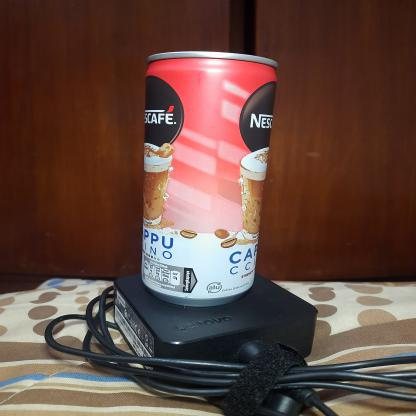can: (133, 46, 284, 311)
